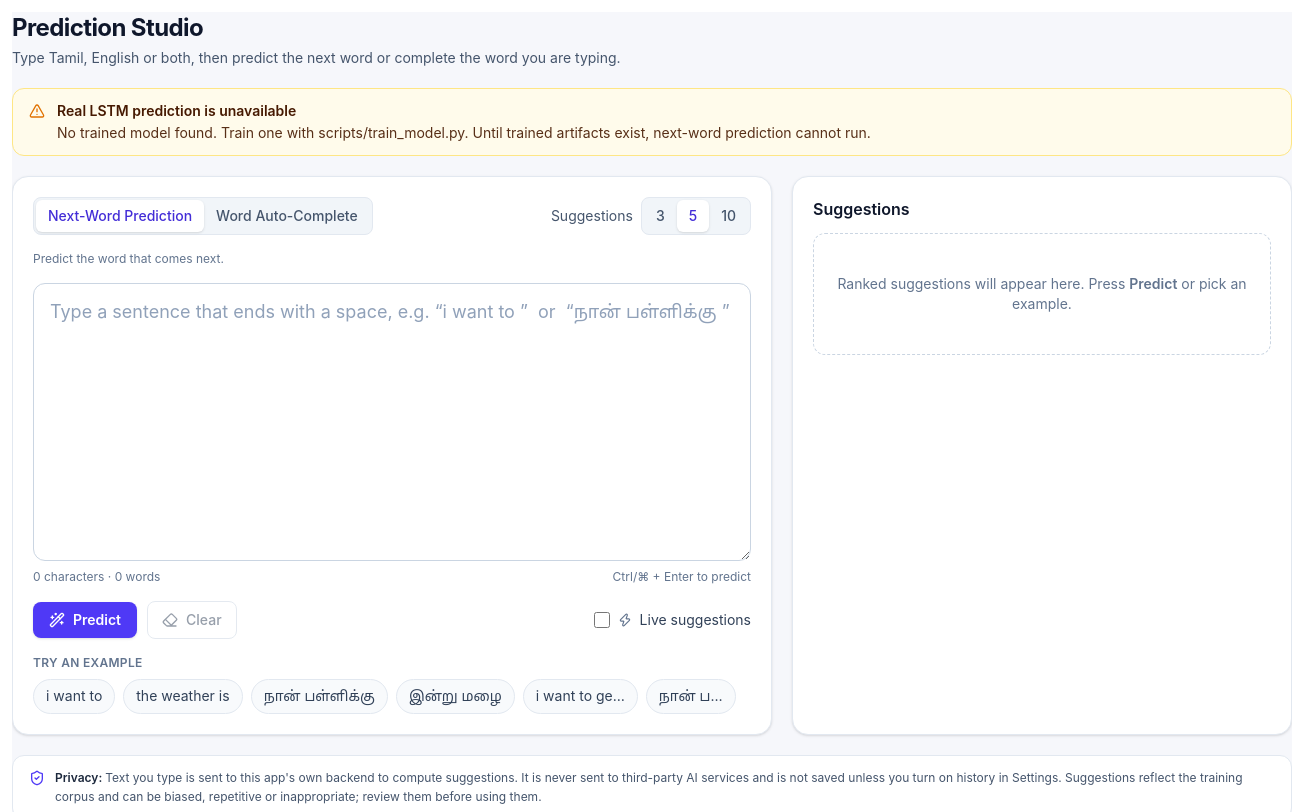
Test: Prediction Studio › explains when the LSTM model is not available (HTTP 503)
The width and height of the screenshot is (1292, 812).
Check: the text "Real LSTM prediction is unavailable" is shown, box [57,102,296,119]
Step 1. Click the text box named "Text to continue" → click(392, 422), box [33,283,751,561]
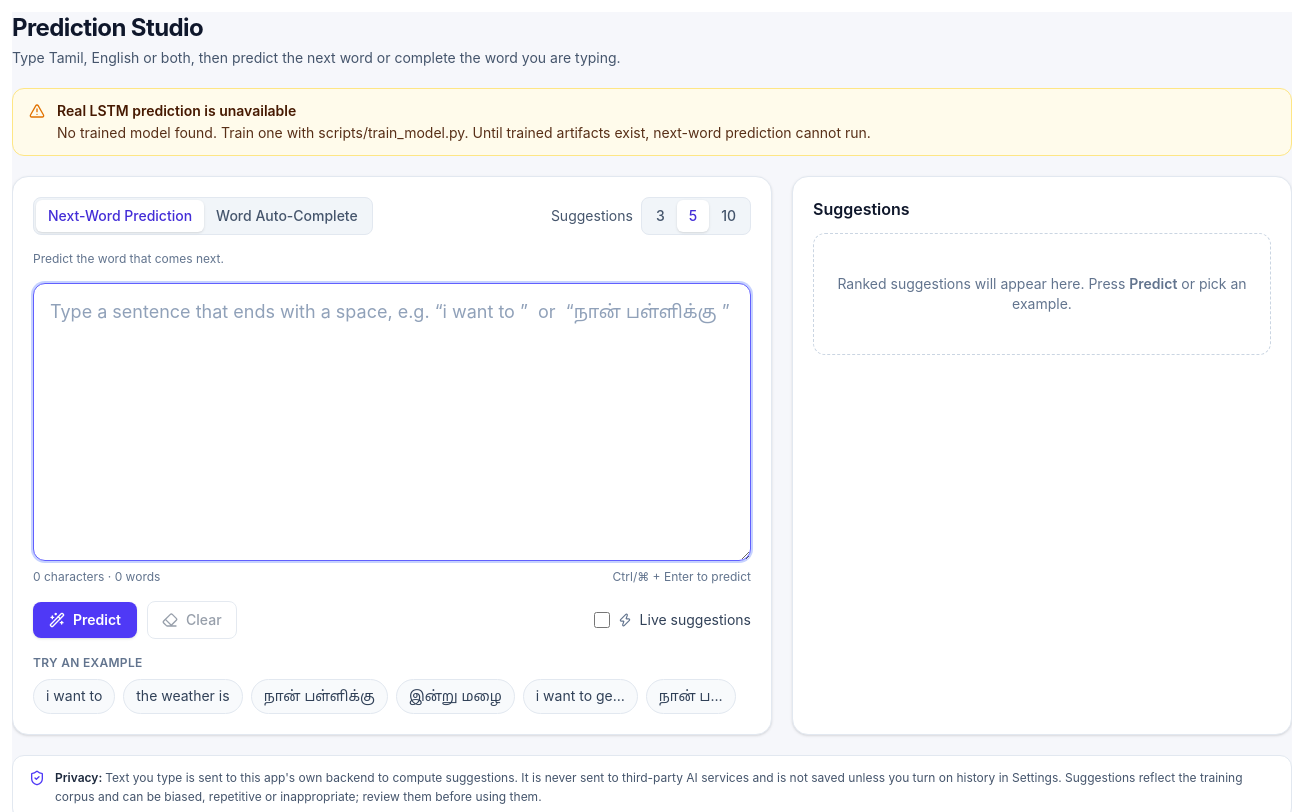
Step 2. Type keys "i want to "
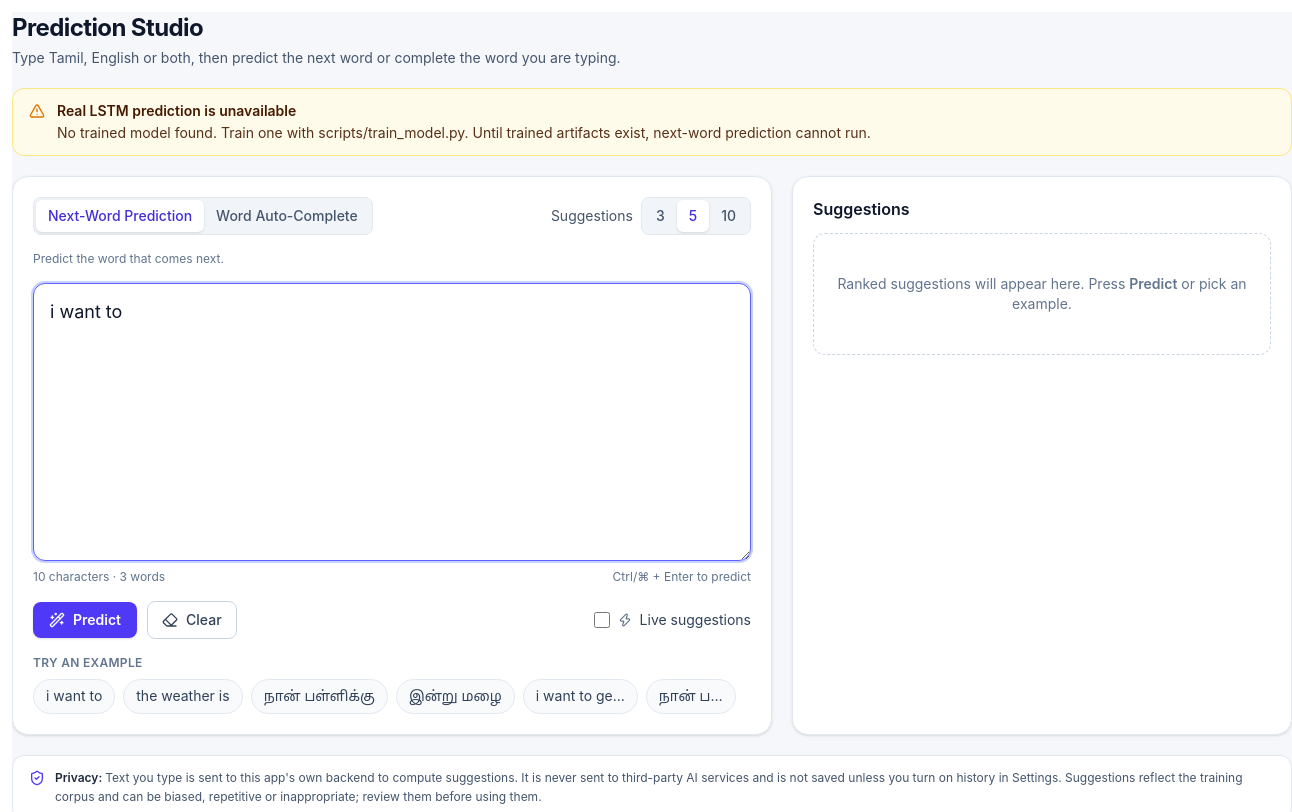
Step 3. Click the button "Predict" → click(85, 620), box [33,602,137,638]
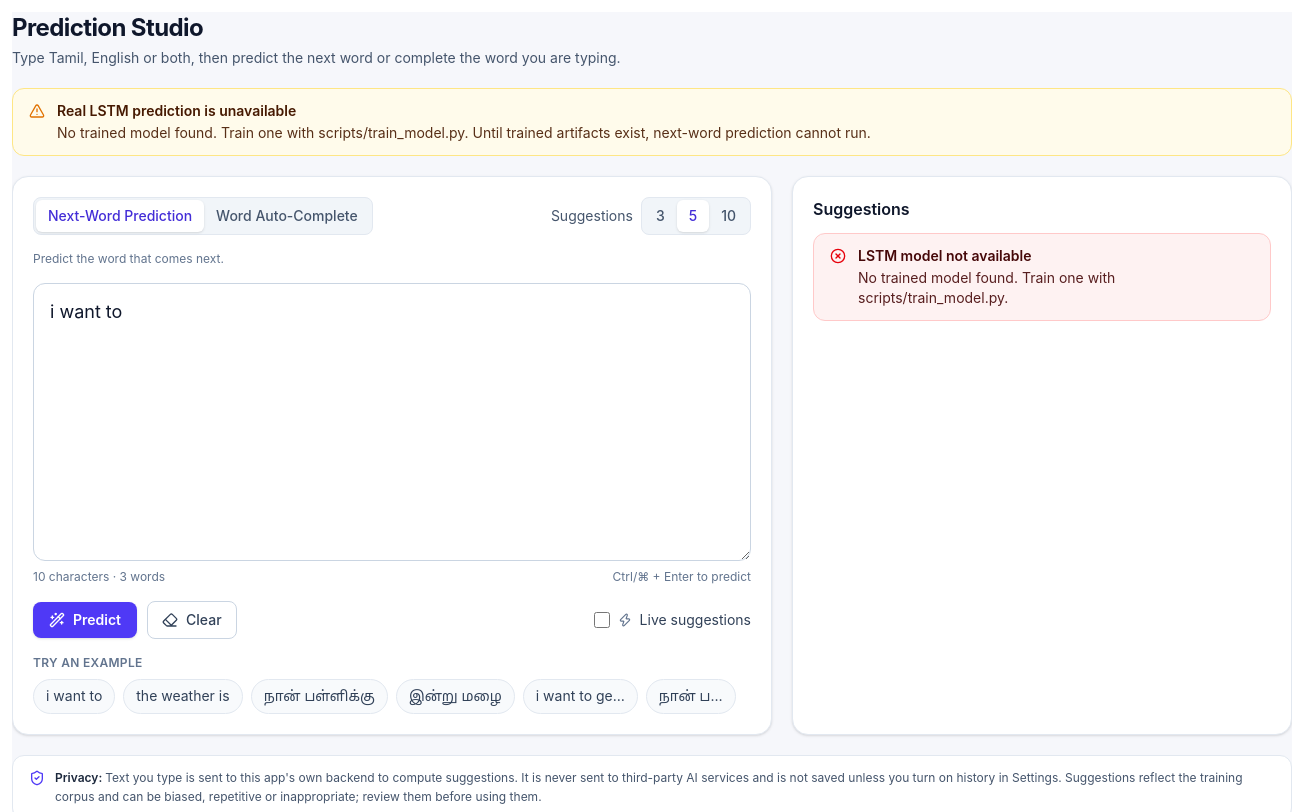
Check: the text "Train one with scripts/train_model.py" is shown, box [57,124,469,141]
Check: the text "LSTM model not available" is shown, box [858,247,1032,264]
